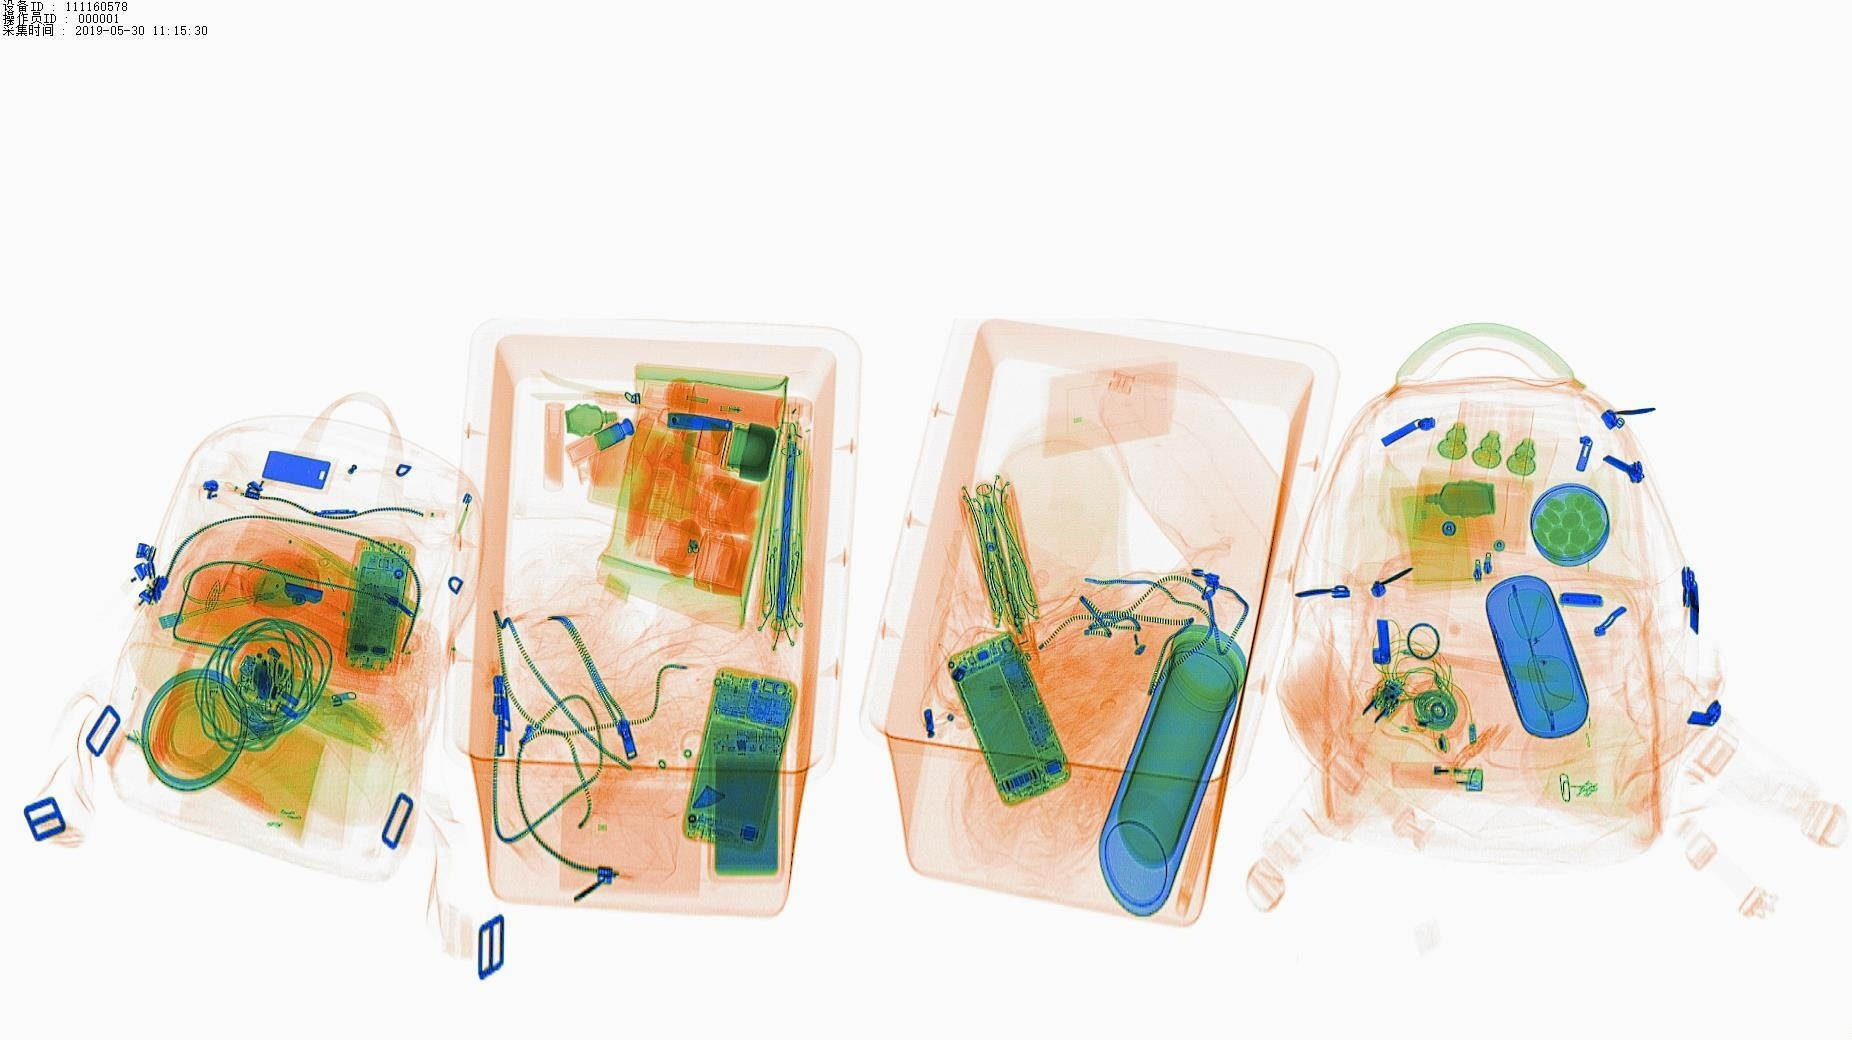NonmetallicFire: (1372, 744, 1498, 809)
